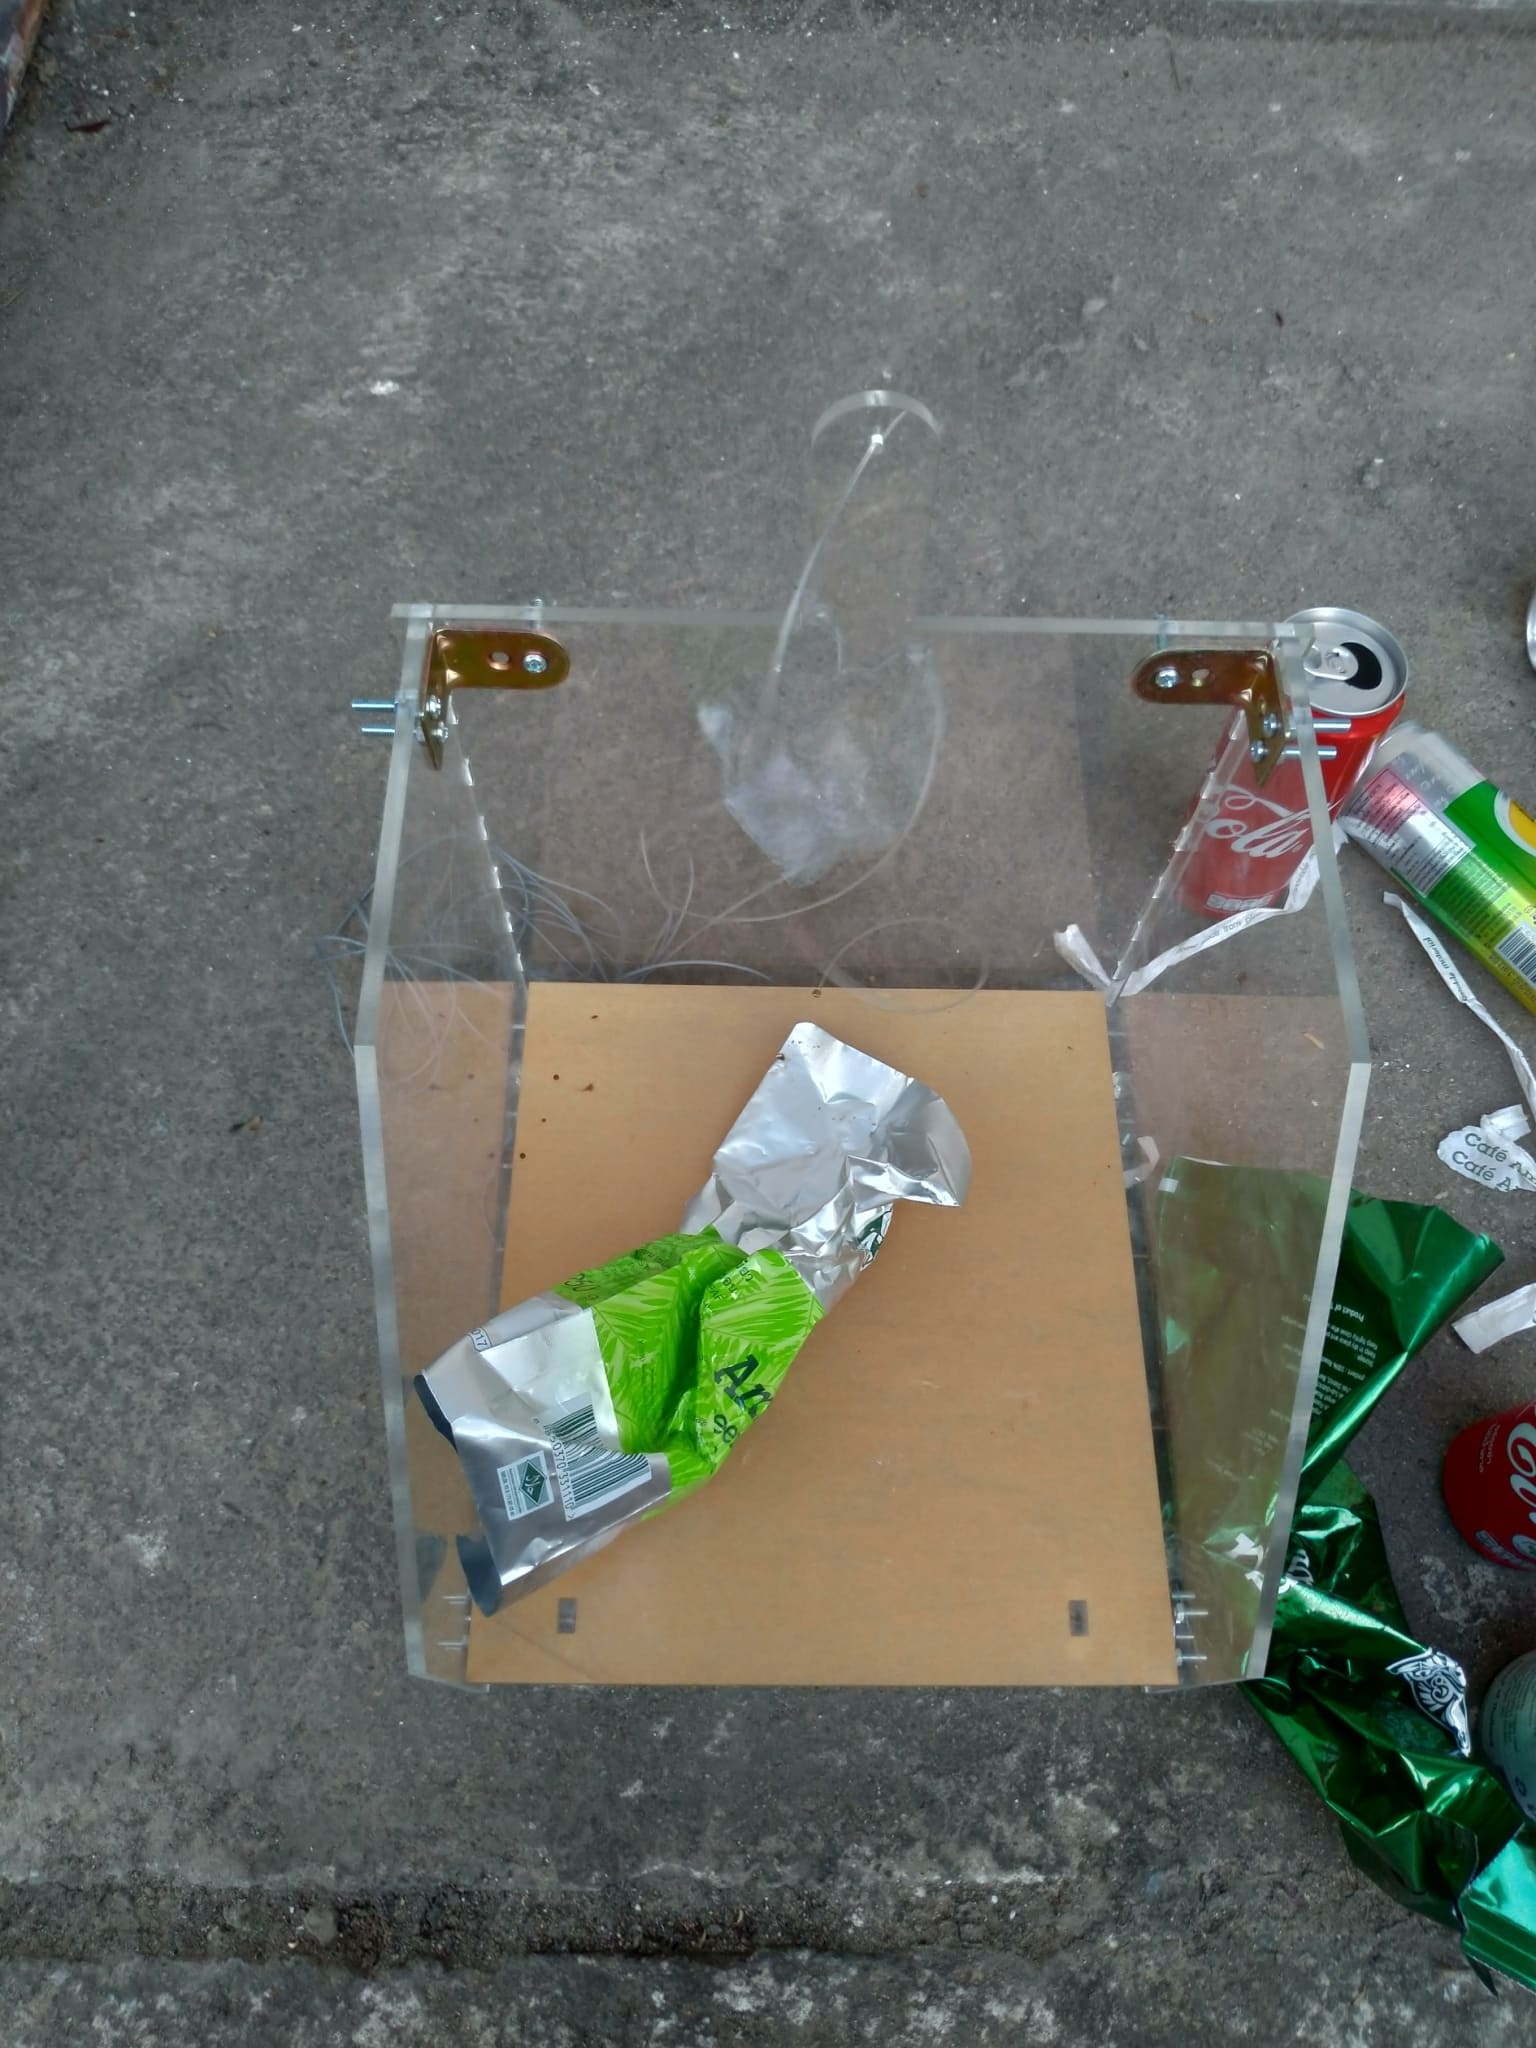AlCan: (1179, 601, 1413, 935), (1344, 727, 1536, 985), (1441, 1395, 1536, 1559)
Others: (410, 1011, 966, 1614), (1144, 1148, 1536, 1972)
